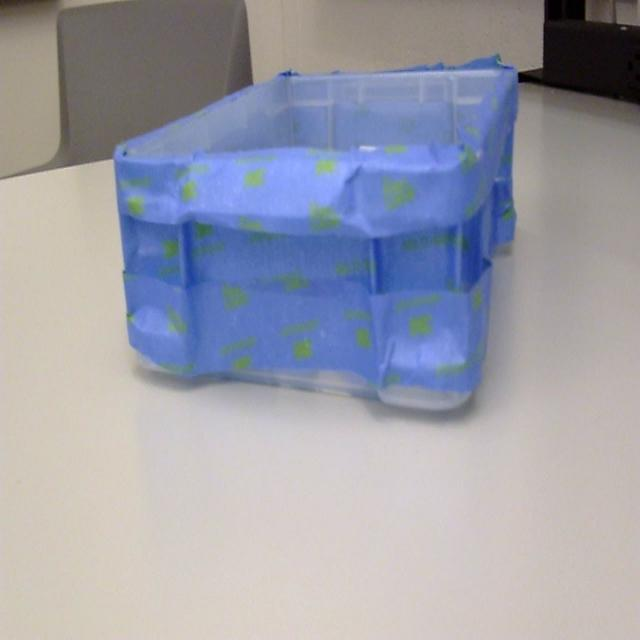bucket: (112, 56, 519, 420)
